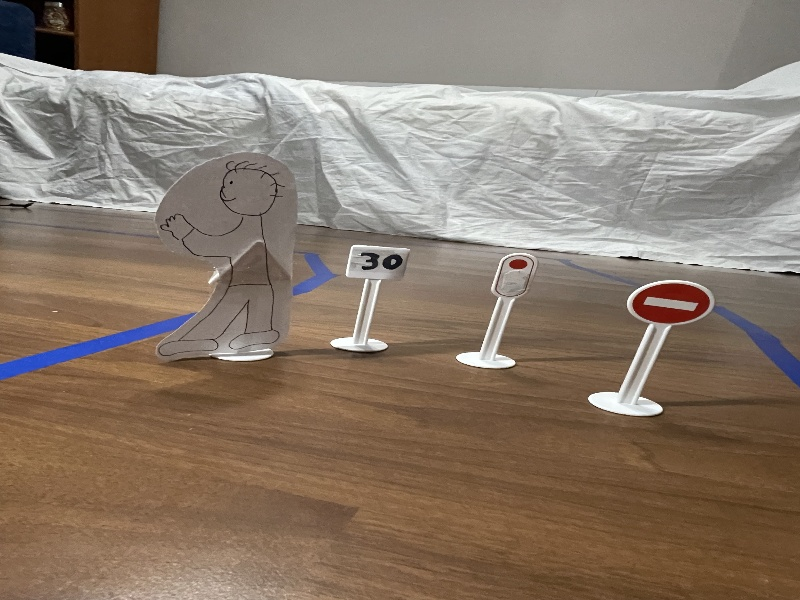interzis: (626, 264, 718, 340)
persoana: (146, 144, 305, 368)
semafor_rosu: (490, 247, 539, 310)
viteza_limita_30: (342, 233, 416, 290)
